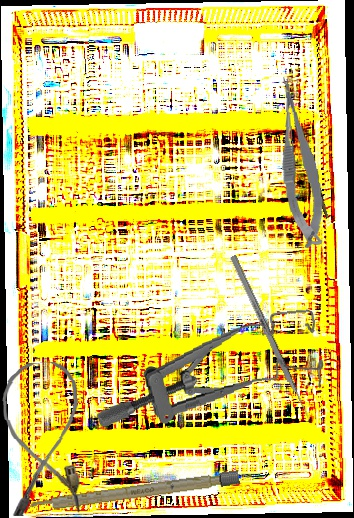Cannula: (0, 360, 84, 517)
Micro Scissor: (275, 74, 327, 250)
Pusher: (229, 254, 315, 427)
Scalpel Handle: (27, 470, 240, 514)
Speculum: (87, 306, 330, 432)
Surgical Spoon: (281, 87, 332, 219)
